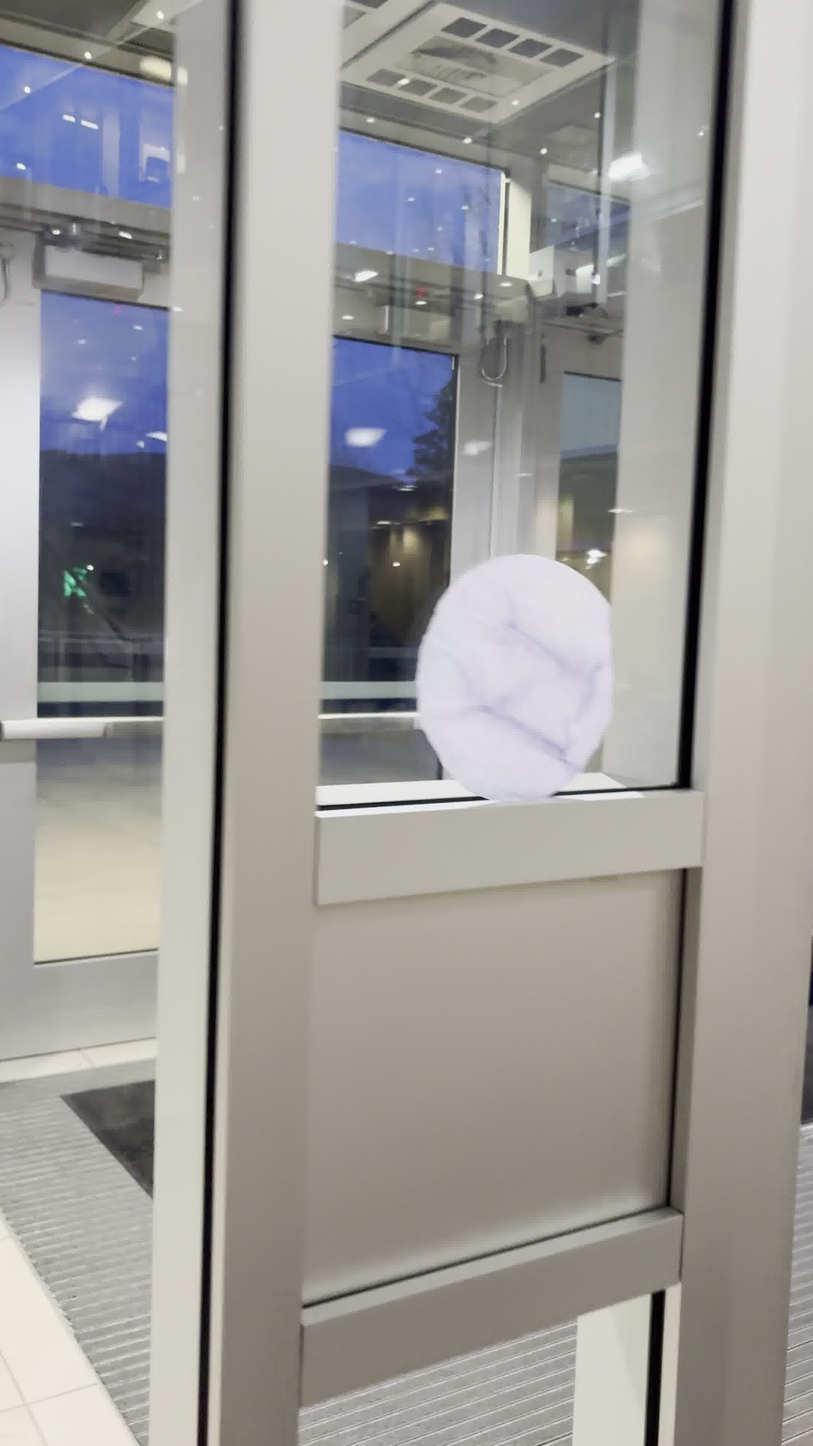Target: (416, 554, 614, 800)
